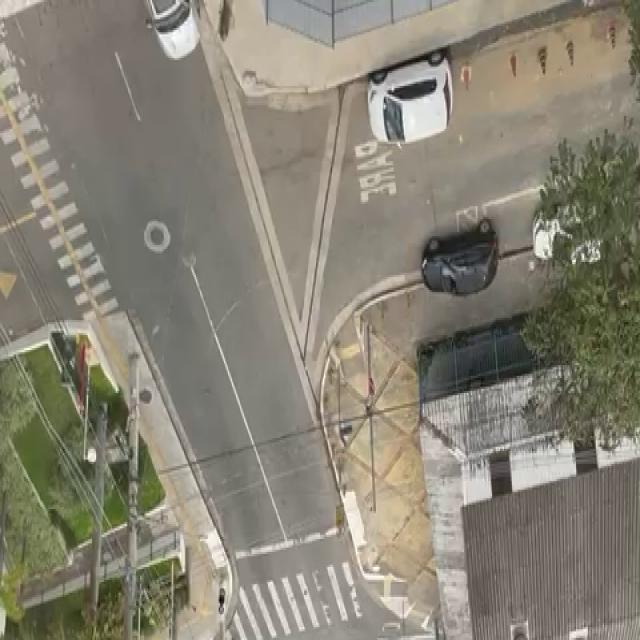car: (362, 42, 458, 160), (410, 211, 510, 313), (530, 187, 626, 281), (136, 1, 206, 78)
